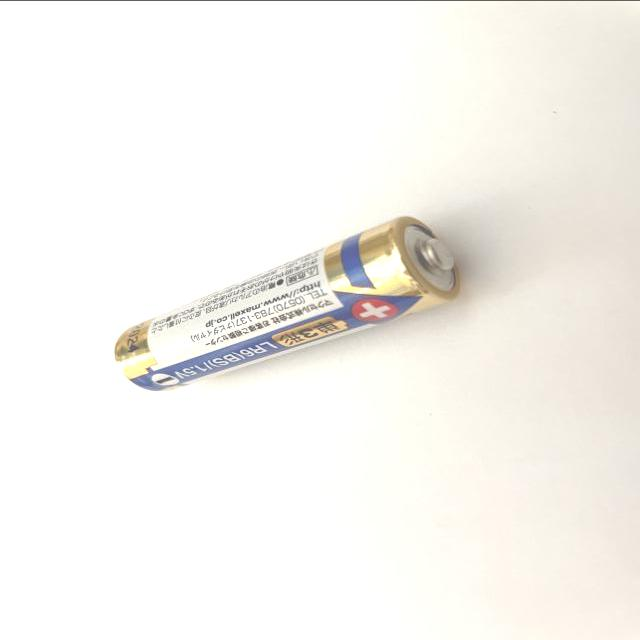AA: (112, 215, 466, 392)
